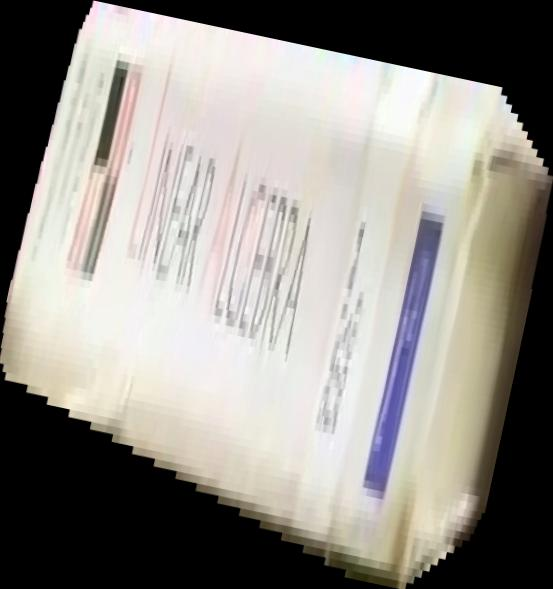flat: (1, 1, 553, 589)
